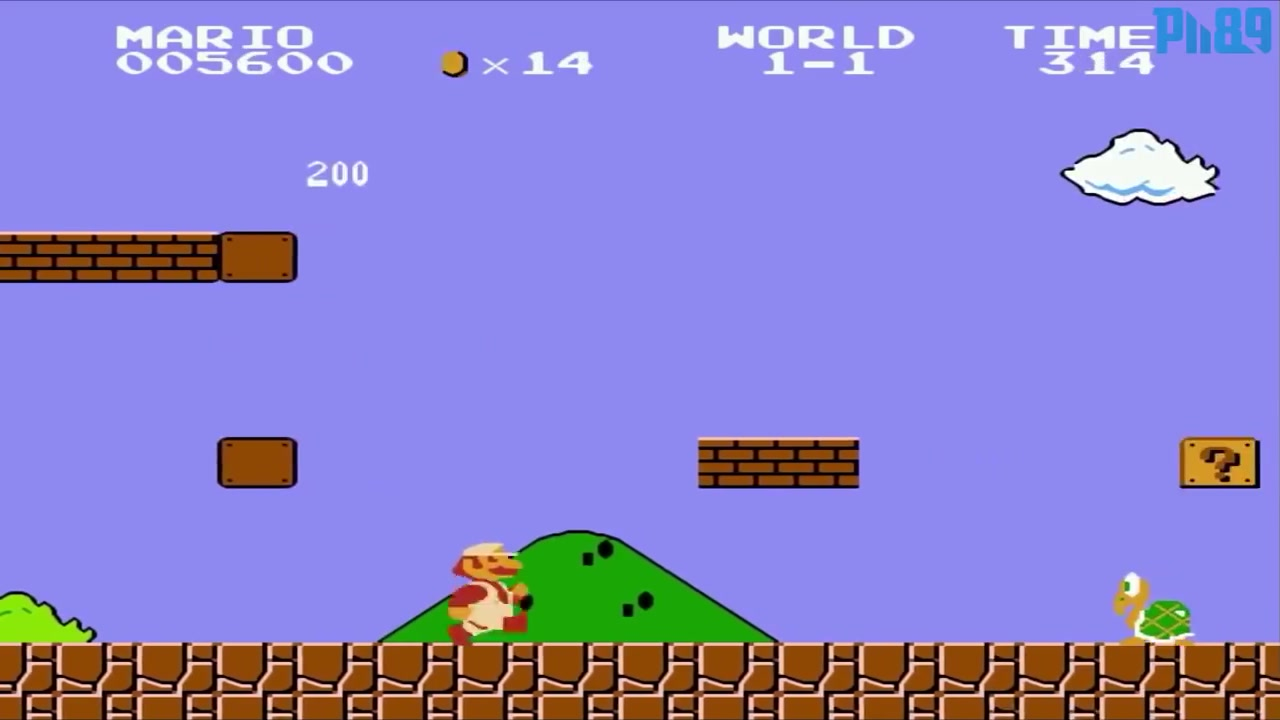mario: (434, 536, 534, 644)
